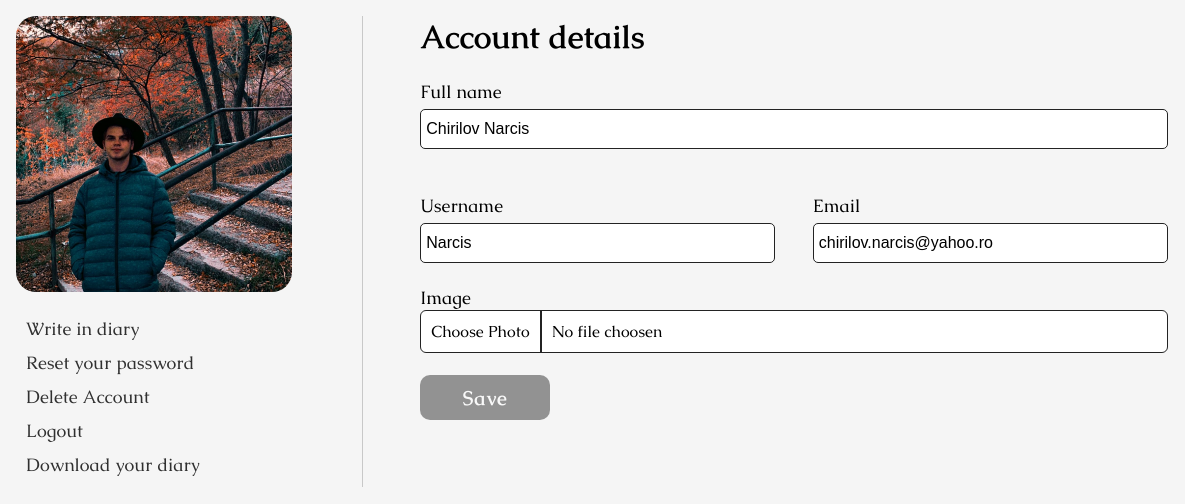
profile component › if we change the input the button will be enabled
Replace the text in the field with test id "input-fullname" with "new value". click: coordinates (794, 129)
box: [420,109,1168,149]
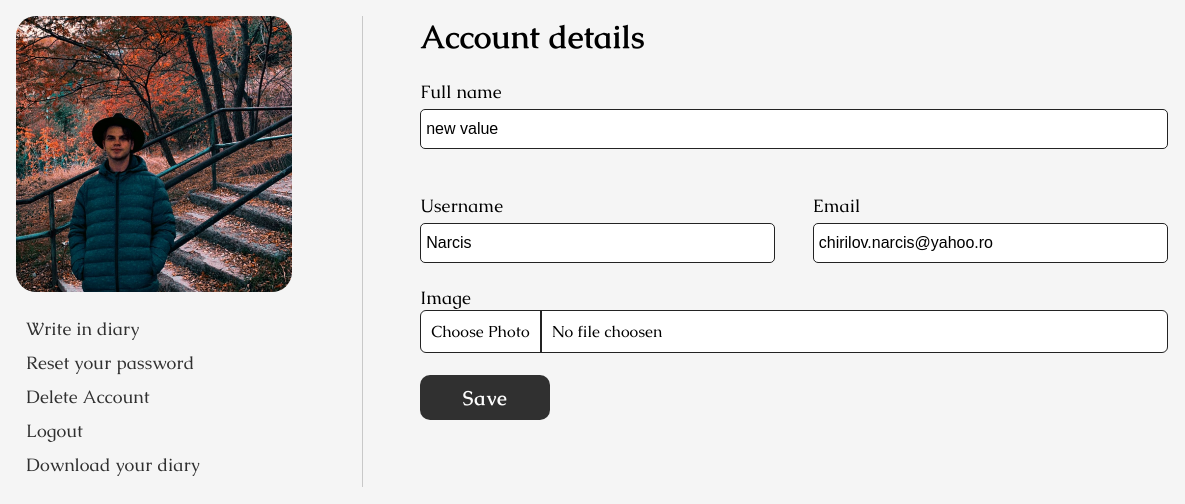
Expected: the button with test id "button-profile" is enabled, [420,375,550,420]
